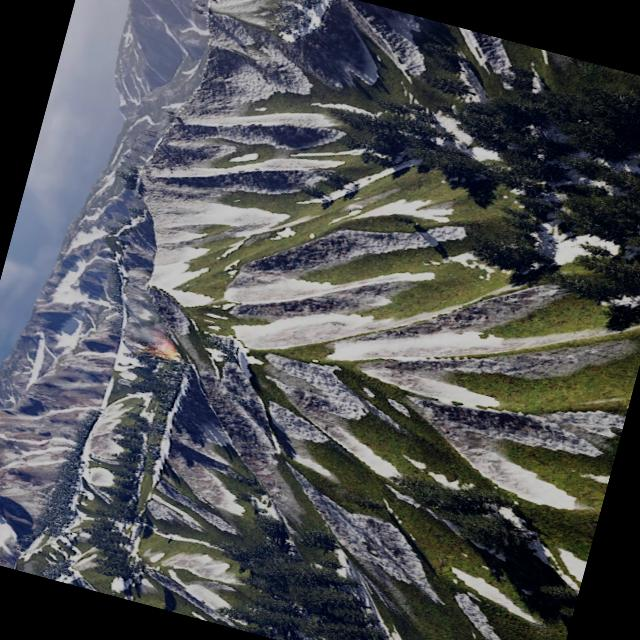fire: (151, 338, 181, 360)
smoke: (122, 300, 170, 346)
